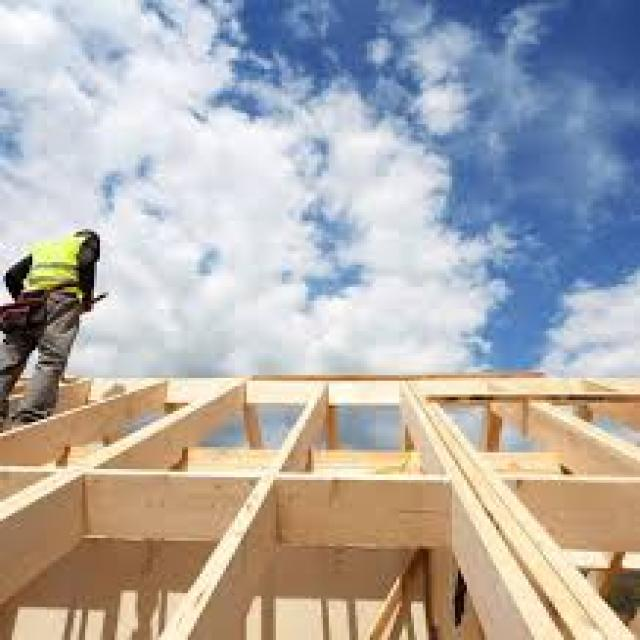Reflective-Jacket: (8, 226, 112, 320)
